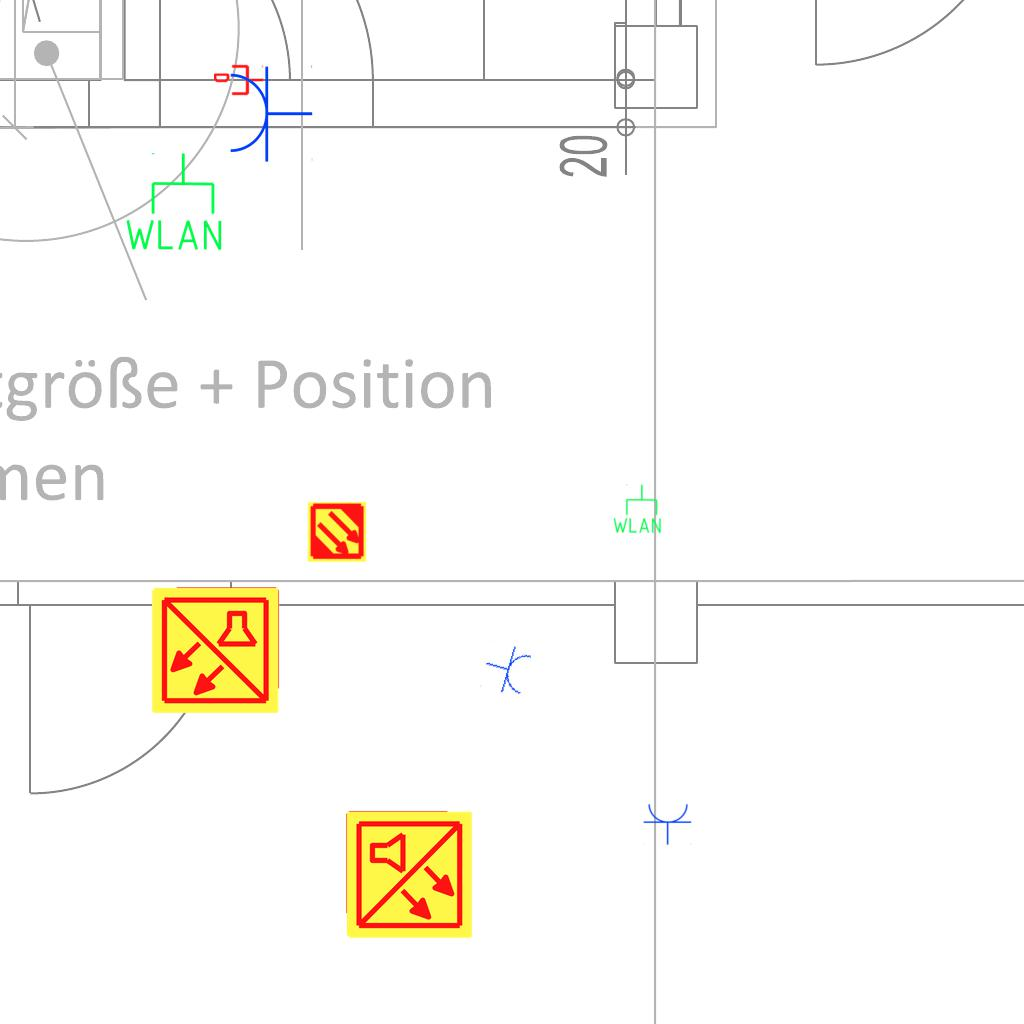ASR_Ansaugrauchmelder: (306, 501, 368, 563)
Datenanschluss_einfach: (214, 63, 264, 97)
OKW_Multisensormelder_(Kombination_optischer_Rauch-Kahlenmonoxid_Waerme-Melder): (343, 809, 475, 941), (149, 584, 281, 716)
Schukosteckdose_einfach: (226, 63, 313, 163), (479, 639, 535, 700), (643, 802, 693, 845)
WLAN: (121, 150, 226, 254), (611, 483, 663, 535)
